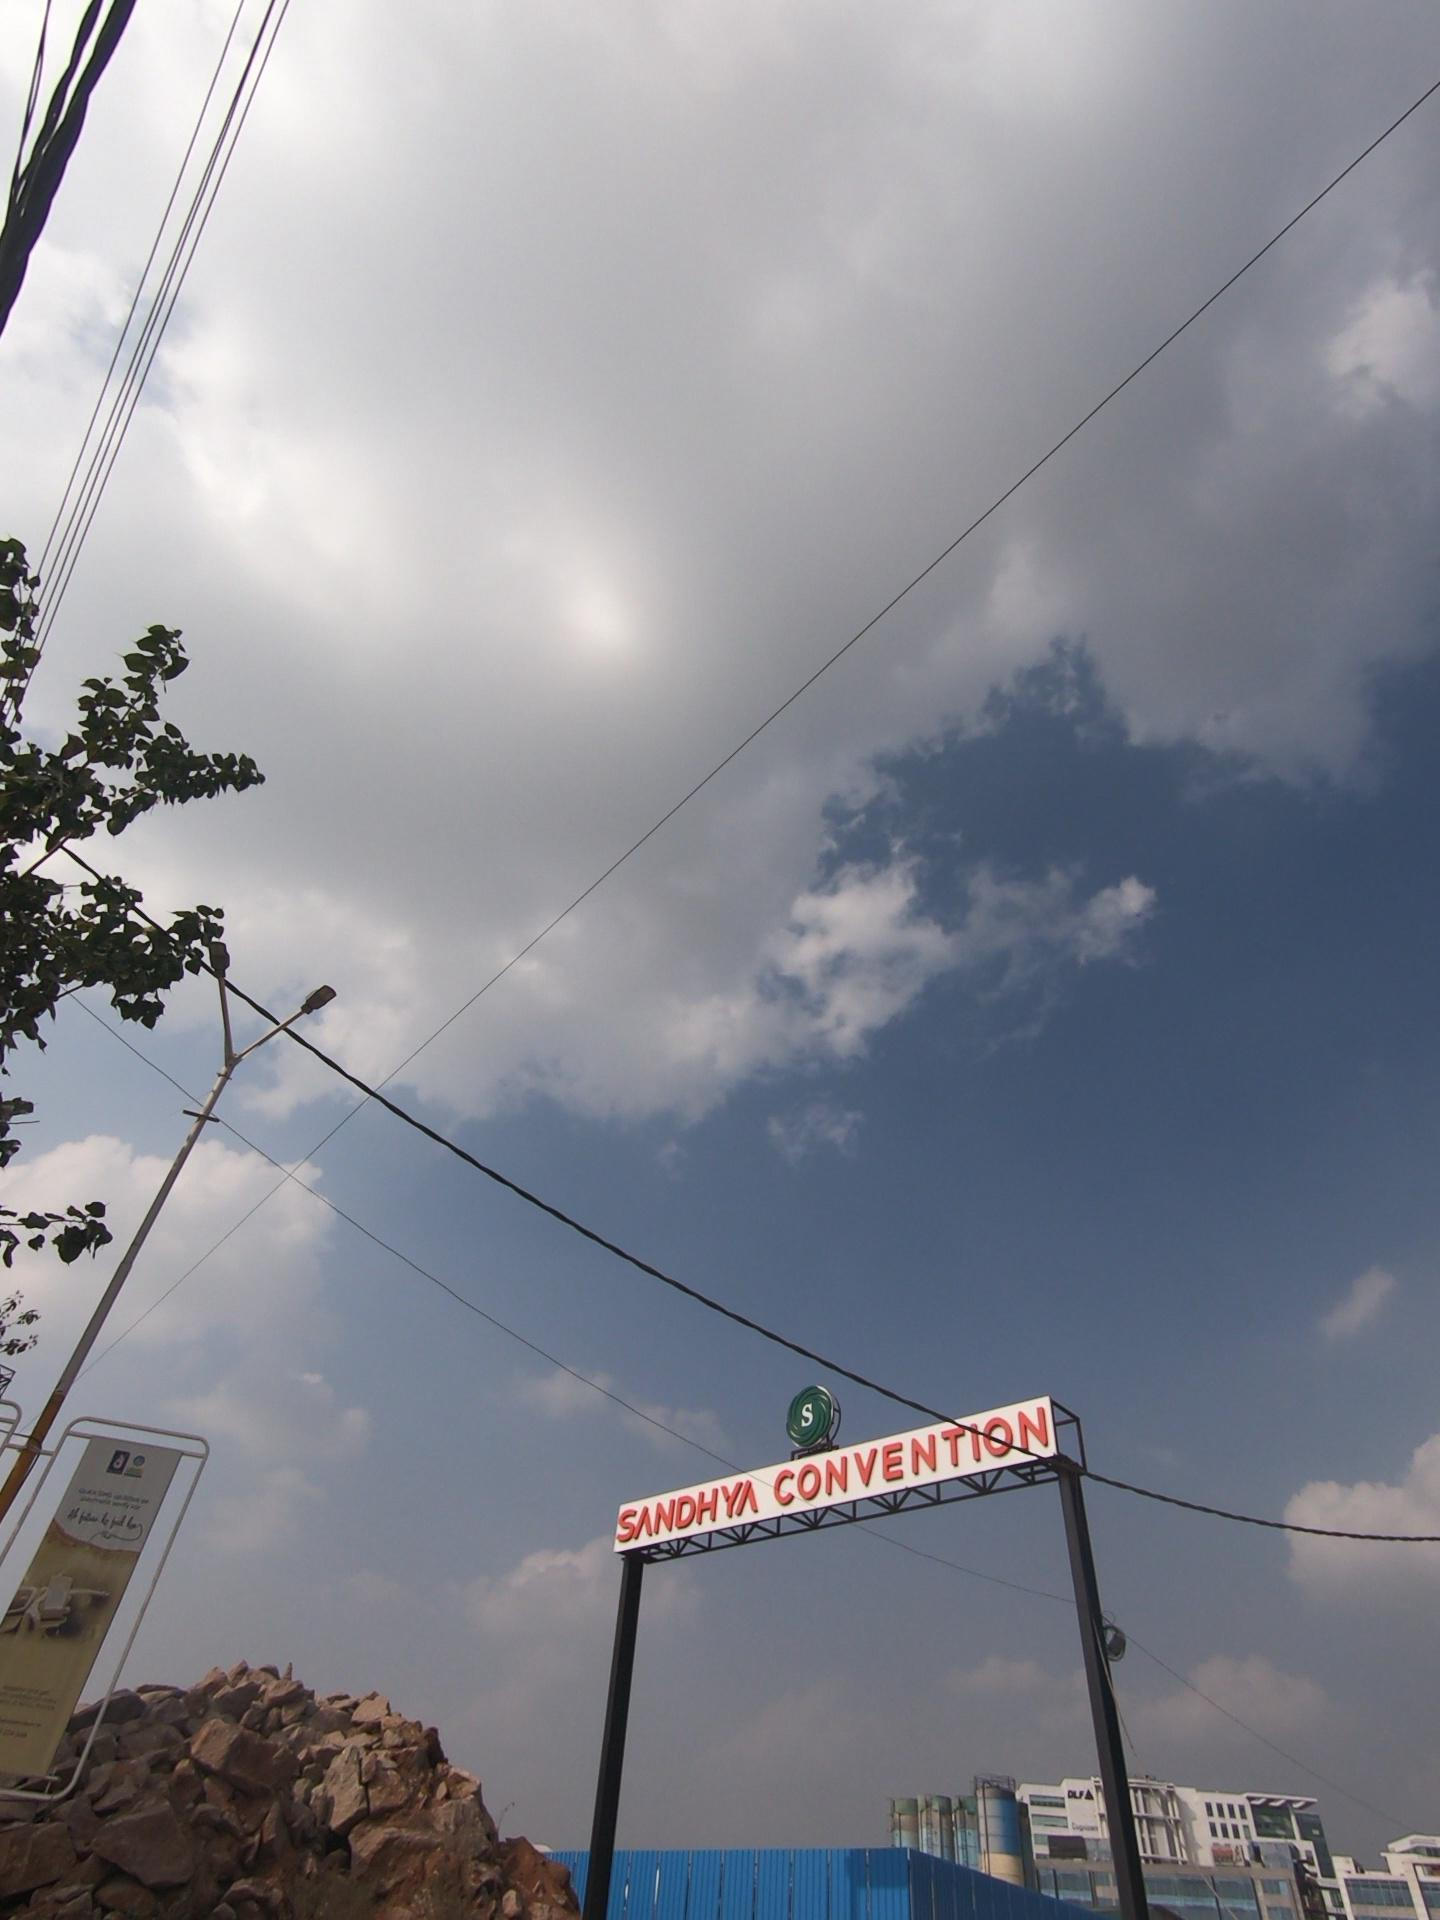off: (145, 866, 424, 1135)
